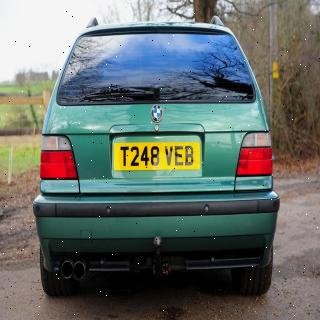license: (98, 115, 210, 222)
